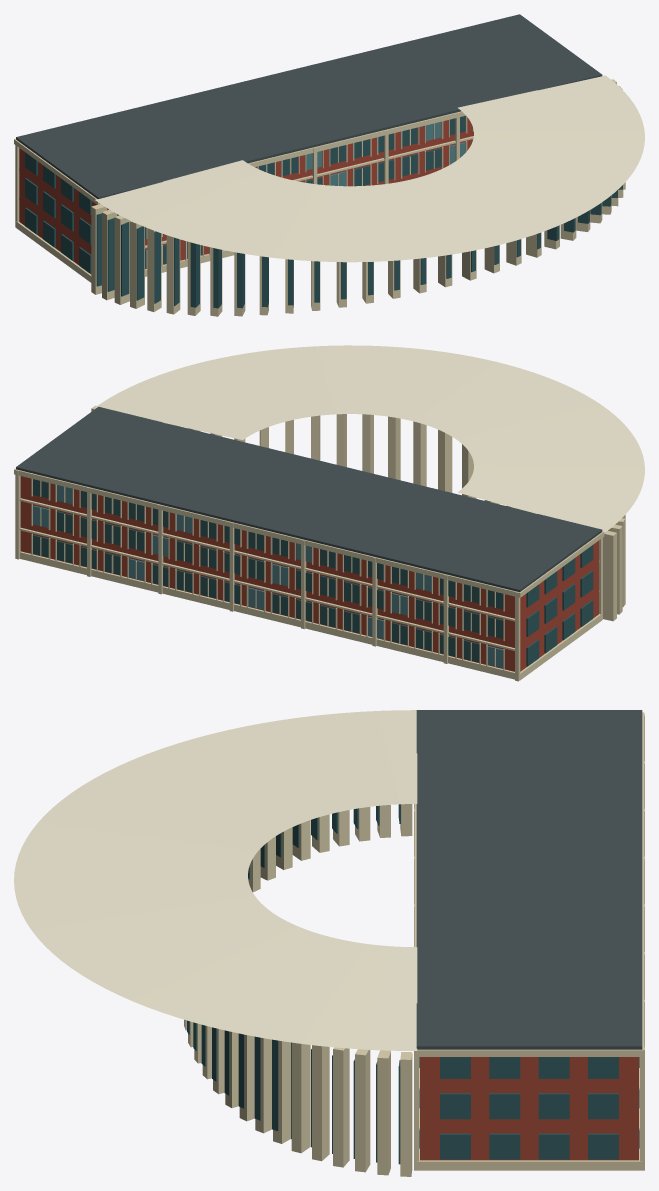
3 views of the same model, one above another, from view 1: azimuth 30°, elevation 25°; view 2: azimuth 150°, elevation 25°; view 3: azimuth 270°, elevation 25° (orthographic). The views are drawn at different scales.
Parts seen in each view (by area): view 1: CurvedDiningRoof, DiningRear_Roof, CurvedDiningFacade, CurvedDiningGlass, DiningRear_Structure, DiningRear_WindowGlass, DiningRear_SideWindows, DiningRear_Cornice, DiningRear_WindowFrames, DiningRear_Pilasters, DiningRear_Plinth, DiningRear_FloorBands; view 2: CurvedDiningRoof, DiningRear_Roof, DiningRear_Structure, DiningRear_WindowGlass, CurvedDiningFacade, DiningRear_WindowFrames, DiningRear_Plinth, DiningRear_Pilasters, DiningRear_Cornice, DiningRear_FloorBands, DiningRear_SideWindows; view 3: CurvedDiningRoof, DiningRear_Roof, CurvedDiningFacade, DiningRear_Structure, DiningRear_SideWindows, CurvedDiningGlass, DiningRear_Cornice, DiningRear_Plinth, DiningRear_Pilasters.
Boxes of the visible parts, left/top/right/bottom form: CurvedDiningRoof: left=95, top=75, right=644, bottom=262; DiningRear_Roof: left=16, top=14, right=602, bottom=198; CurvedDiningFacade: left=91, top=79, right=625, bottom=316; CurvedDiningGlass: left=96, top=185, right=622, bottom=308; DiningRear_Structure: left=19, top=117, right=473, bottom=269; DiningRear_WindowGlass: left=117, top=116, right=465, bottom=268; DiningRear_SideWindows: left=25, top=152, right=91, bottom=273; DiningRear_Cornice: left=14, top=111, right=465, bottom=204; DiningRear_WindowFrames: left=146, top=116, right=473, bottom=268; DiningRear_Pilasters: left=15, top=112, right=459, bottom=227; DiningRear_Plinth: left=16, top=221, right=234, bottom=282; DiningRear_FloorBands: left=19, top=136, right=473, bottom=248; CurvedDiningRoof: left=95, top=345, right=644, bottom=532; DiningRear_Roof: left=16, top=406, right=602, bottom=592; DiningRear_Structure: left=20, top=476, right=598, bottom=671; DiningRear_WindowGlass: left=33, top=479, right=503, bottom=668; CurvedDiningFacade: left=91, top=405, right=625, bottom=621; DiningRear_WindowFrames: left=31, top=478, right=504, bottom=670; DiningRear_Plinth: left=20, top=551, right=601, bottom=680; DiningRear_Pilasters: left=15, top=470, right=602, bottom=681; DiningRear_Cornice: left=14, top=468, right=604, bottom=597; DiningRear_FloorBands: left=19, top=498, right=599, bottom=650; DiningRear_SideWindows: left=526, top=545, right=593, bottom=666; CurvedDiningRoof: left=14, top=710, right=417, bottom=1050; DiningRear_Roof: left=416, top=710, right=642, bottom=1049; CurvedDiningFacade: left=184, top=804, right=412, bottom=1176; DiningRear_Structure: left=420, top=1057, right=638, bottom=1160; DiningRear_SideWindows: left=440, top=1057, right=618, bottom=1159; CurvedDiningGlass: left=187, top=804, right=400, bottom=1164; DiningRear_Cornice: left=414, top=712, right=644, bottom=1056; DiningRear_Plinth: left=416, top=1057, right=642, bottom=1170; DiningRear_Pilasters: left=414, top=713, right=644, bottom=1170.
Bounding box in the file's own units: 74.13 × 12.6 × 56.71.
